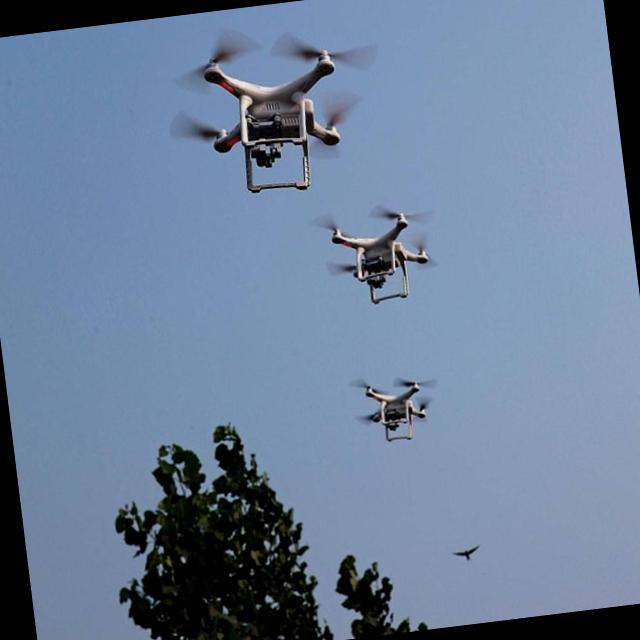drone: (200, 42, 348, 202), (327, 207, 439, 308), (362, 373, 433, 447)
